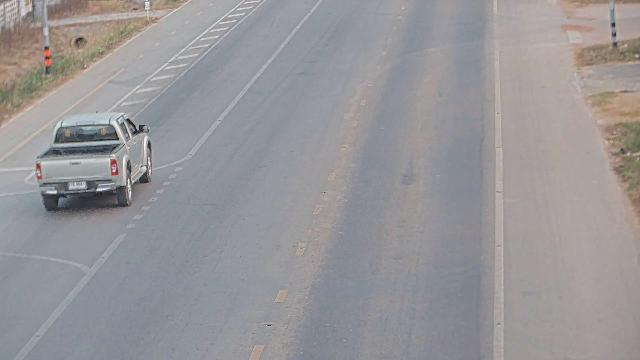pickup-truck: (34, 110, 153, 212)
